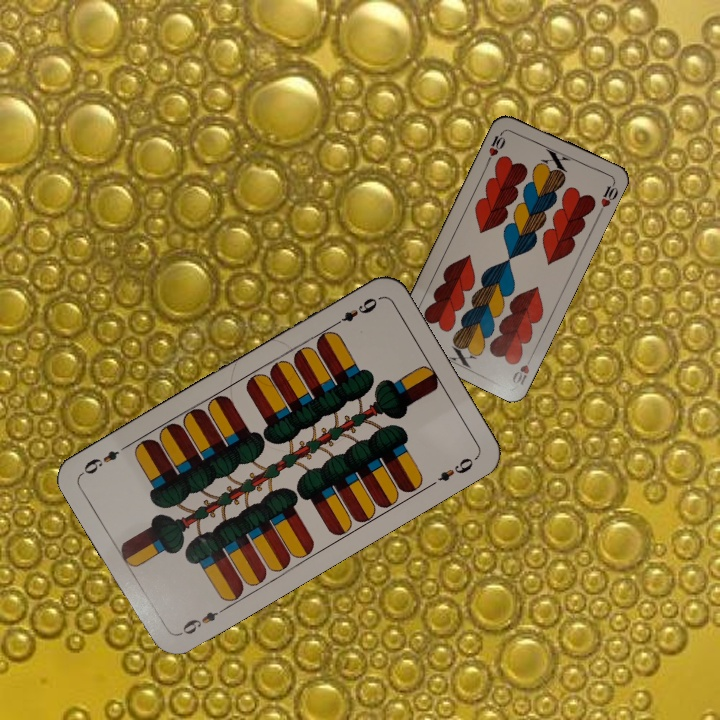E9: (329, 293, 382, 330), (175, 603, 229, 639)
H10: (508, 350, 536, 388), (483, 127, 508, 165)
